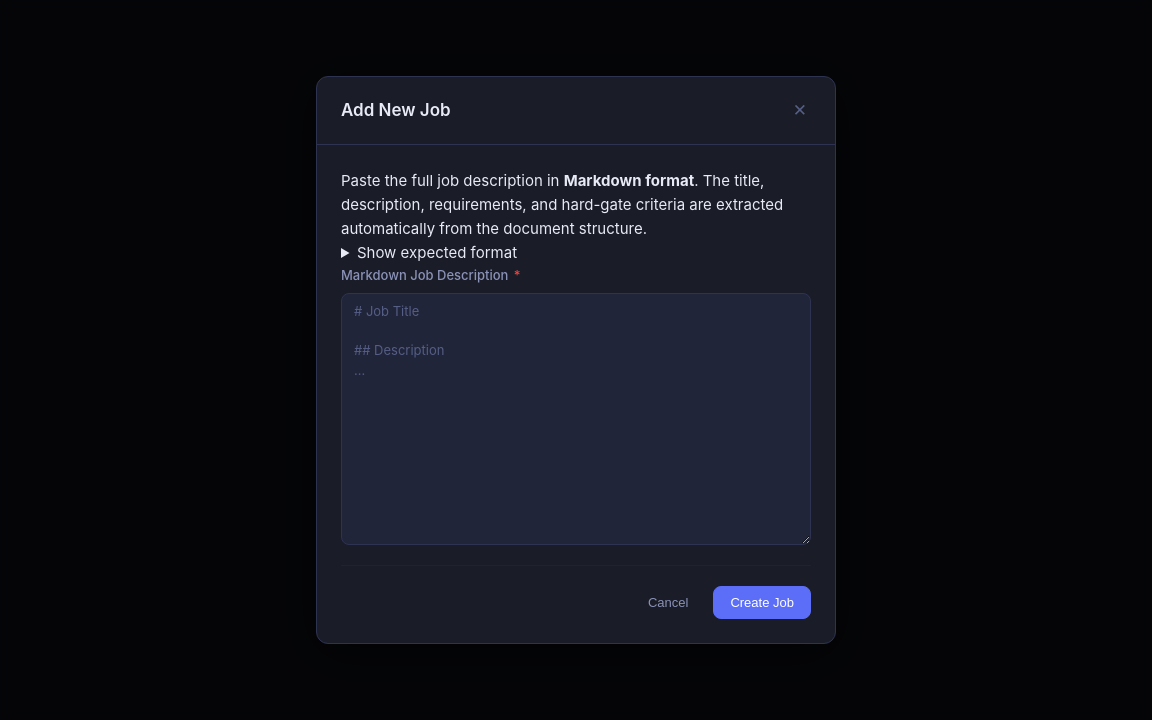
Test: JobIngestionModal › submit button shows loading label during submission
Type "# Senior Backend Engineer ## Description Deep Python and Django experience required. ## Requirements ### Required Skills - Python - Django " into the text box with test id "job-raw-markdown" at (576, 420), box [341,294,811,546]
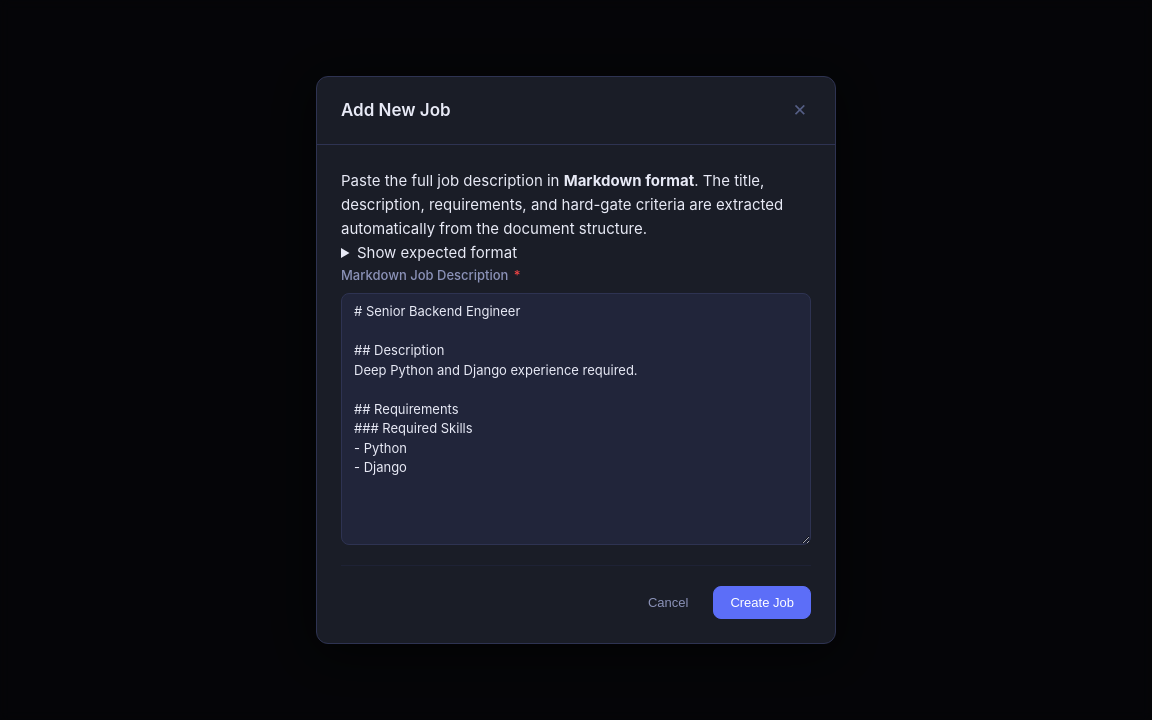
Click the button "Create Job" at (762, 603), box [713,586,811,620]
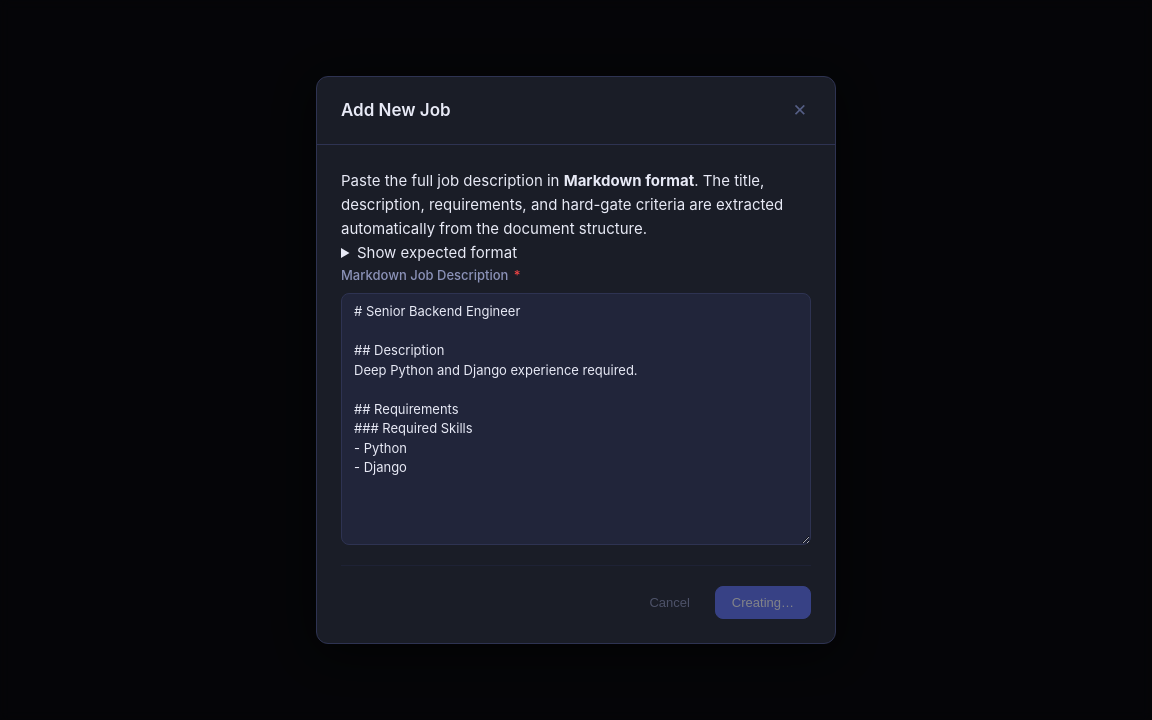
Check: the button "Creating…" is shown, box [715,586,811,620]
